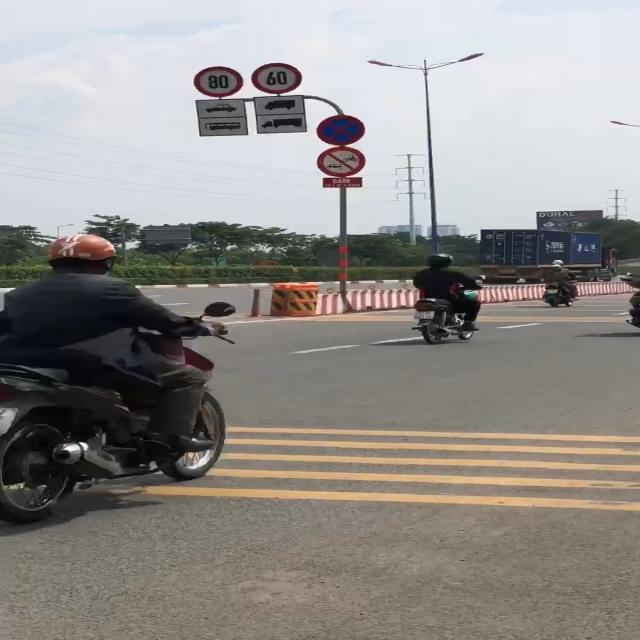Bien bao cam dung xe va do xe: (312, 111, 373, 149)
Bien bao toc do toi da cho phep: (245, 60, 311, 96), (188, 61, 252, 98)
